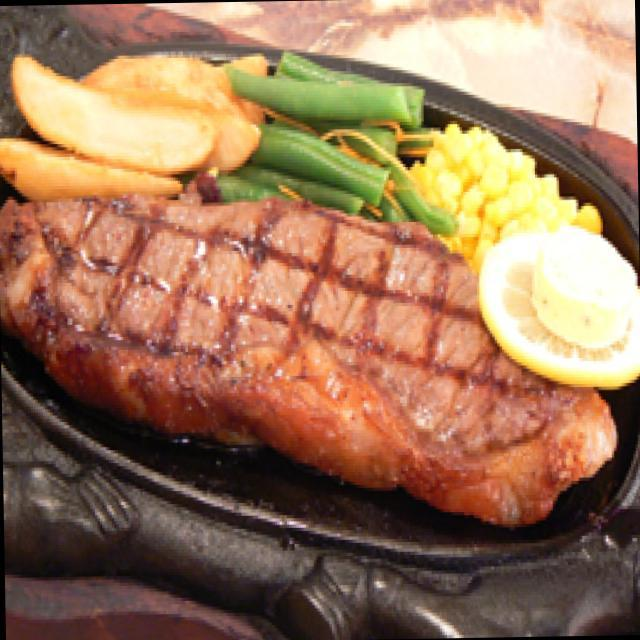Beef Steak: (0, 205, 505, 524)
